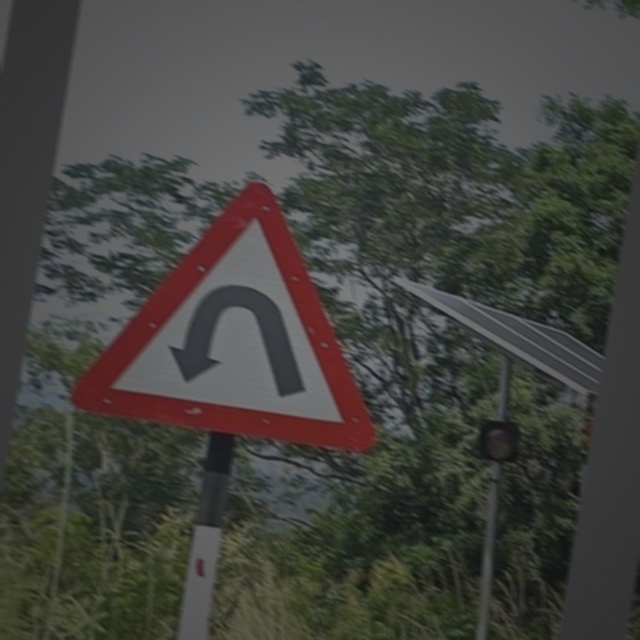Left_Hair_Pin_Bend: (65, 158, 418, 455)
